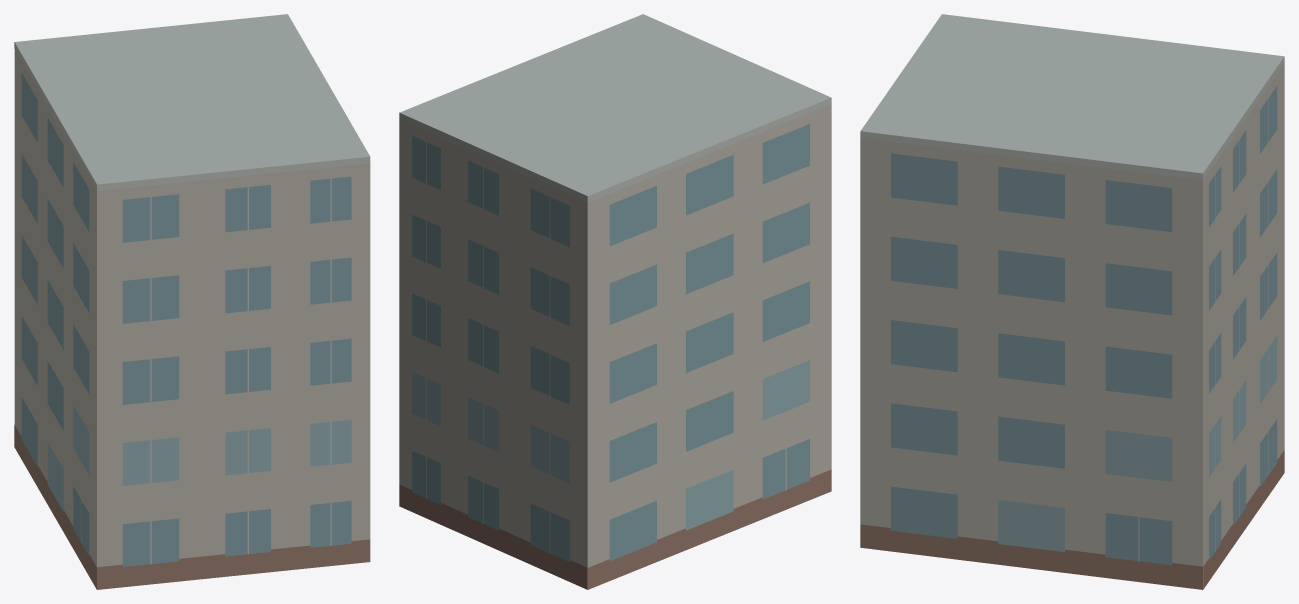
Rendered from survey-upis-32880230.glb.
3 renders of one model, left to right at view 1: azimuth 30°, elevation 25°; view 2: azimuth 150°, elevation 25°; view 3: azimuth 270°, elevation 25°, orthographic. The views are drawn at different scales.
Parts seen in each view (by area): view 1: survey-upis-32880230.tmp; view 2: survey-upis-32880230.tmp; view 3: survey-upis-32880230.tmp.
Part boxes in pixels (x1=…): survey-upis-32880230.tmp: x1=14, y1=14, x2=370, y2=589; survey-upis-32880230.tmp: x1=399, y1=14, x2=831, y2=589; survey-upis-32880230.tmp: x1=860, y1=14, x2=1284, y2=589.
Size of the model in its own units: 12.32 by 15 by 13.86.
